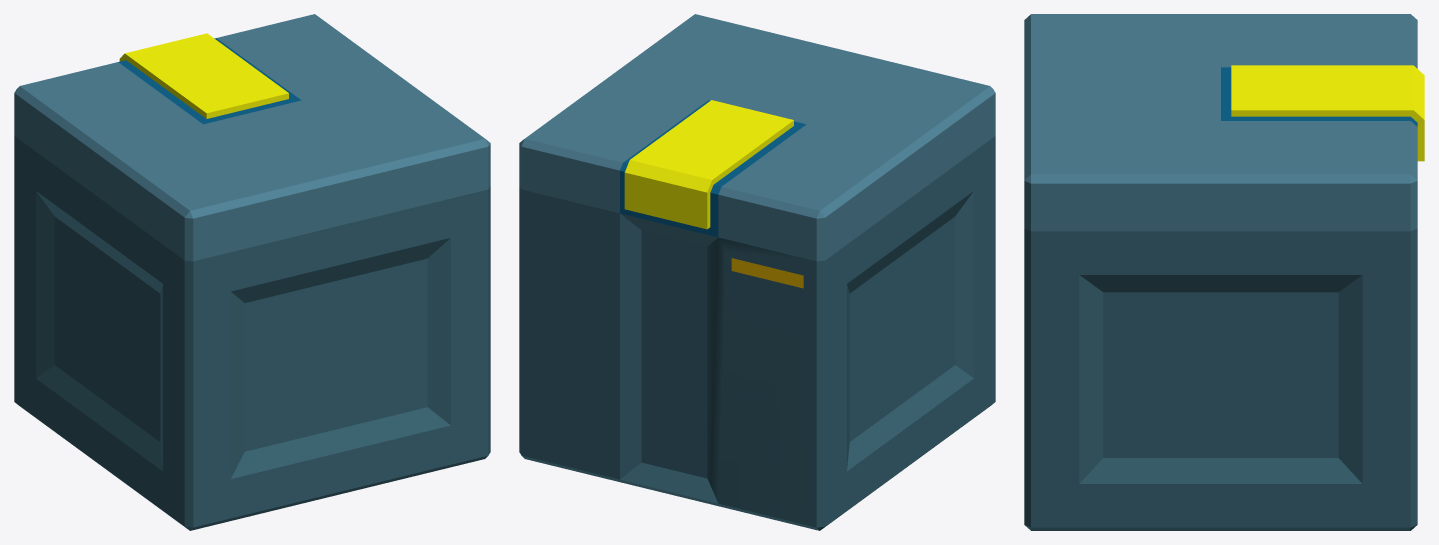
The model's file is model_loot_box_01.fbx.
3 views of the same model, side by side, from view 1: azimuth 30°, elevation 25°; view 2: azimuth 150°, elevation 25°; view 3: azimuth 270°, elevation 25° (orthographic). The views are drawn at different scales.
Parts seen in each view (by area): view 1: model_loot_box_01, box_lid; view 2: model_loot_box_01, box_lid; view 3: model_loot_box_01, box_lid.
Part boxes in pixels (box(x1,y1,x2,y2)): model_loot_box_01: box(14, 136, 490, 530); box_lid: box(14, 14, 490, 261); model_loot_box_01: box(519, 136, 995, 530); box_lid: box(519, 14, 995, 261); model_loot_box_01: box(1024, 228, 1417, 530); box_lid: box(1024, 14, 1424, 231).
Size of the model in its own units: 60.1 by 61.18 by 61.18.
Materials: 1 (1 with a texture image).
